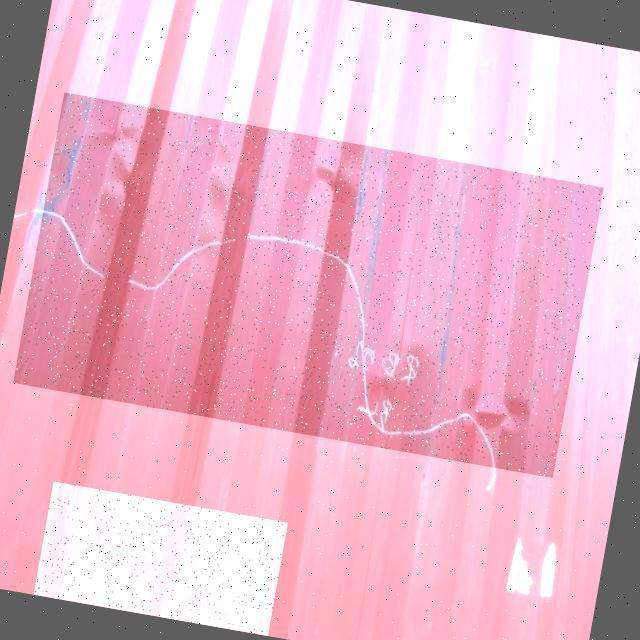dent: (14, 93, 605, 479), (34, 482, 288, 637)
